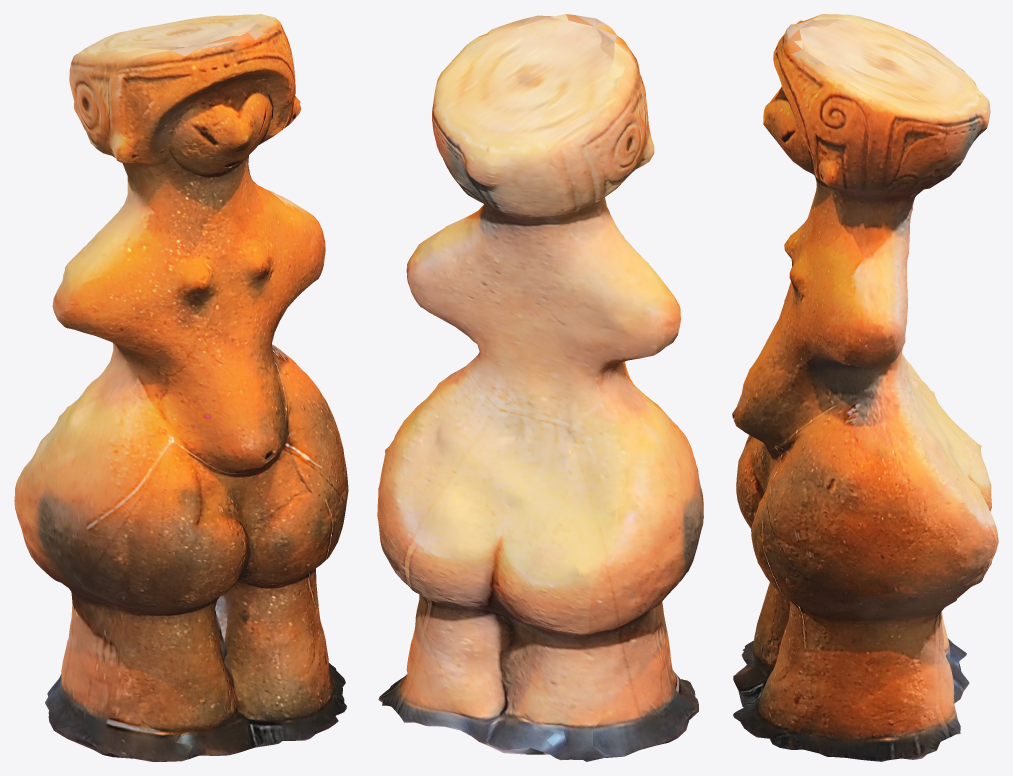
Rendered from figurine_74fca33d.glb.
3 views of the same model, side by side, from view 1: azimuth 30°, elevation 25°; view 2: azimuth 150°, elevation 25°; view 3: azimuth 270°, elevation 25° (orthographic). The views are drawn at different scales.
Parts seen in each view (by area): view 1: Stereo textured mesh; view 2: Stereo textured mesh; view 3: Stereo textured mesh.
Boxes of the visible parts, x1=… form: Stereo textured mesh: x1=14, y1=14, x2=348, y2=761; Stereo textured mesh: x1=377, y1=14, x2=703, y2=761; Stereo textured mesh: x1=732, y1=14, x2=998, y2=761.
Bounding box in the file's own units: 442 × 1000 × 365.
Materials: 1 (1 with a texture image).
